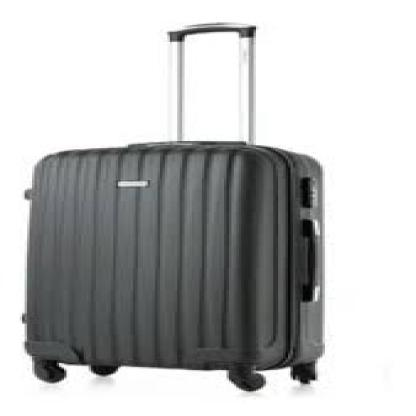maleta: (15, 135, 342, 404)
